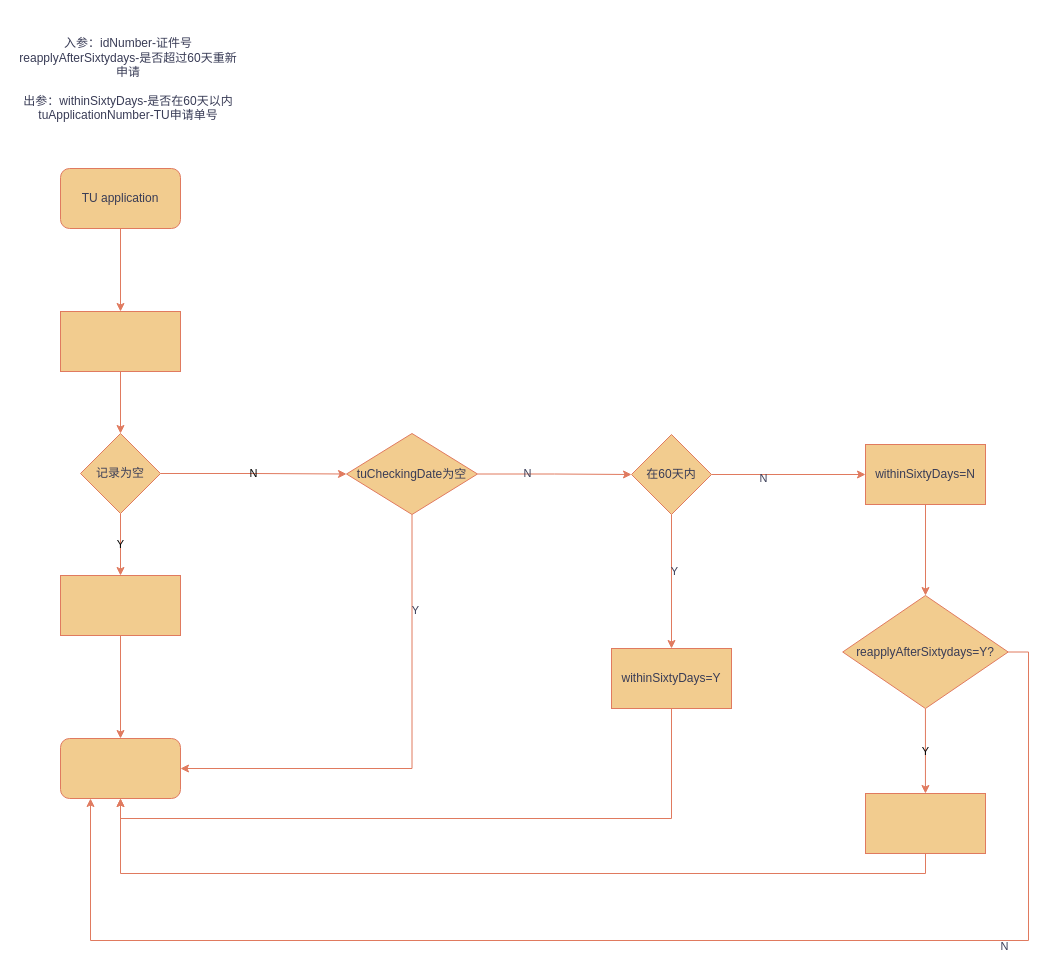
Some shapes in this 1054 by 969 pixel diagram are drawn without their labels. The shapes that lost their labels are listed below. From the top down, each one's box as (x1, y1, x2, y2) in pixels, then its label:
(60, 310, 180, 372): 根据idNumber查询TU申请表最新的一条记录
(60, 574, 180, 636): 创建一笔新的TU 申请单
(60, 738, 180, 798): 返回tuApplication， withinSixtyDays
(864, 792, 986, 854): 创建一笔新的审批单
